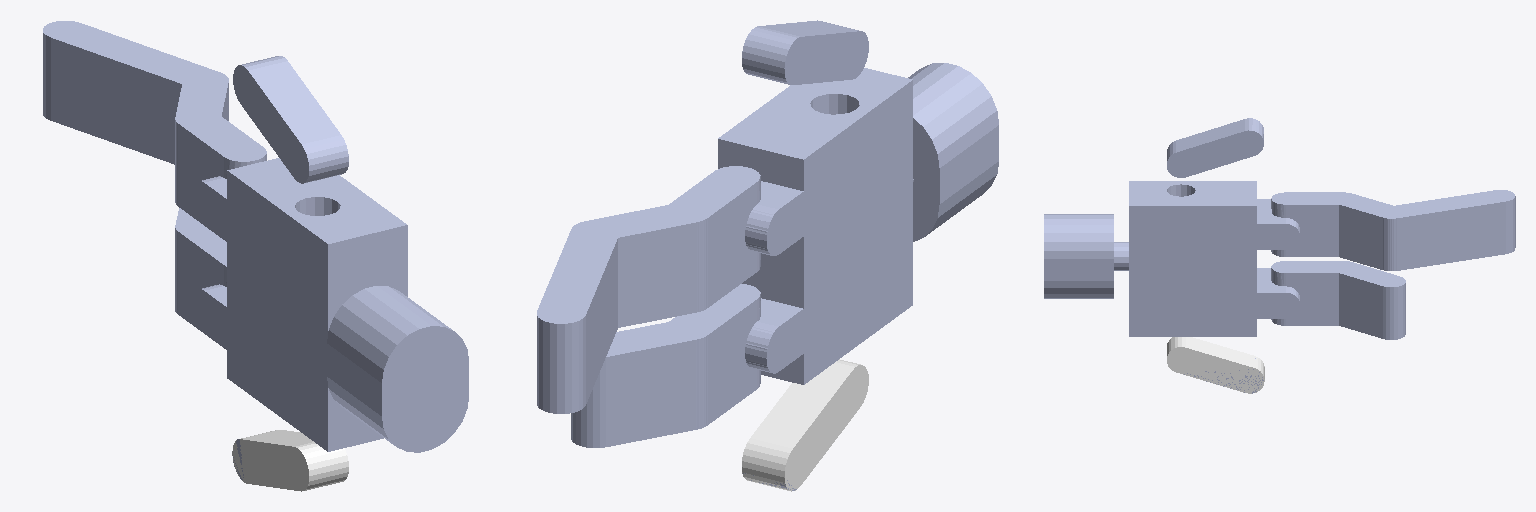
URDF robot description (ARLBOT_URDF):
<?xml version="1.0" encoding="utf-8"?>
<!-- This URDF was automatically created by SolidWorks to URDF Exporter! Originally created by [author] ([email redacted]) 
     Commit Version: 1.5.1-0-g916b5db  Build Version: 1.5.7152.31018
     For more information, please see http://wiki.ros.org/sw_urdf_exporter -->
<robot
  name="ARLBOT_URDF">
  <link
    name="body">
    <inertial>
      <origin
        xyz="-0.00077634 -0.099479 0.0043453"
        rpy="0 0 0" />
      <mass
        value="0.059413" />
      <inertia
        ixx="4.1035E-05"
        ixy="-1.0081E-06"
        ixz="-2.1708E-22"
        iyy="1.2244E-05"
        iyz="2.2363E-21"
        izz="3.3026E-05" />
    </inertial>
    <visual>
      <origin
        xyz="0 0 0"
        rpy="0 0 0" />
      <geometry>
        <mesh
          filename="package://ARLBOT_URDF/meshes/body.STL" />
      </geometry>
      <material
        name="">
        <color
          rgba="0.79216 0.81961 0.93333 1" />
      </material>
    </visual>
    <collision>
      <origin
        xyz="0 0 0"
        rpy="0 0 0" />
      <geometry>
        <mesh
          filename="package://ARLBOT_URDF/meshes/body.STL" />
      </geometry>
    </collision>
  </link>
  <link
    name="LL1">
    <inertial>
      <origin
        xyz="-0.00041151 2.8557E-09 -0.0086506"
        rpy="0 0 0" />
      <mass
        value="0.0064156" />
      <inertia
        ixx="6.404E-07"
        ixy="6.3379E-16"
        ixz="3.3481E-12"
        iyy="5.3959E-07"
        iyz="-3.3148E-14"
        izz="2.8084E-07" />
    </inertial>
    <visual>
      <origin
        xyz="0 0 0"
        rpy="0 0 0" />
      <geometry>
        <mesh
          filename="package://ARLBOT_URDF/meshes/LL1.STL" />
      </geometry>
      <material
        name="">
        <color
          rgba="0.79216 0.81961 0.93333 1" />
      </material>
    </visual>
    <collision>
      <origin
        xyz="0 0 0"
        rpy="0 0 0" />
      <geometry>
        <mesh
          filename="package://ARLBOT_URDF/meshes/LL1.STL" />
      </geometry>
    </collision>
  </link>
  <joint
    name="LL1"
    type="continuous">
    <origin
      xyz="0 -0.061525 0.017345"
      rpy="1.5708 0 0" />
    <parent
      link="body" />
    <child
      link="LL1" />
    <axis
      xyz="1 0 0" />
    <limit
      lower="-1.57"
      upper="1.57"
      effort="0"
      velocity="0.8" />
    <safety_controller
      soft_upper="1.57"
      soft_lower="-1.57"
      k_velocity="0" />
  </joint>
  <link
    name="LL2">
    <inertial>
      <origin
        xyz="0.0057358 -3.4694E-18 -0.0081915"
        rpy="0 0 0" />
      <mass
        value="0.0055708" />
      <inertia
        ixx="4.4608E-07"
        ixy="-1.2321E-23"
        ixz="1.5211E-07"
        iyy="4.1005E-07"
        iyz="2.3681E-24"
        izz="3.3535E-07" />
    </inertial>
    <visual>
      <origin
        xyz="0 0 0"
        rpy="0 0 0" />
      <geometry>
        <mesh
          filename="package://ARLBOT_URDF/meshes/LL2.STL" />
      </geometry>
      <material
        name="">
        <color
          rgba="0.79216 0.81961 0.93333 1" />
      </material>
    </visual>
    <collision>
      <origin
        xyz="0 0 0"
        rpy="0 0 0" />
      <geometry>
        <mesh
          filename="package://ARLBOT_URDF/meshes/LL2.STL" />
      </geometry>
    </collision>
  </link>
  <joint
    name="LL2"
    type="continuous">
    <origin
      xyz="-0.000411442702803559 0 -0.02"
      rpy="0 0 0" />
    <parent
      link="LL1" />
    <child
      link="LL2" />
    <axis
      xyz="0 1 0" />
    <limit
      lower="-1.57"
      upper="1.57"
      effort="0"
      velocity="0.8" />
    <safety_controller
      soft_upper="1.57"
      soft_lower="-1.57"
      k_velocity="0" />
  </joint>
  <link
    name="LL3">
    <inertial>
      <origin
        xyz="-0.0068404 -3.4694E-18 -0.018794"
        rpy="0 0 0" />
      <mass
        value="0.0095708" />
      <inertia
        ixx="1.9511E-06"
        ixy="2.5795E-23"
        ixz="-5.6618E-07"
        iyy="1.9146E-06"
        iyz="-2.7953E-23"
        izz="6.0158E-07" />
    </inertial>
    <visual>
      <origin
        xyz="0 0 0"
        rpy="0 0 0" />
      <geometry>
        <mesh
          filename="package://ARLBOT_URDF/meshes/LL3.STL" />
      </geometry>
      <material
        name="">
        <color
          rgba="0.79216 0.81961 0.93333 1" />
      </material>
    </visual>
    <collision>
      <origin
        xyz="0 0 0"
        rpy="0 0 0" />
      <geometry>
        <mesh
          filename="package://ARLBOT_URDF/meshes/LL3.STL" />
      </geometry>
    </collision>
  </link>
  <joint
    name="LL3"
    type="continuous">
    <origin
      xyz="0.0114715287270209 0 -0.0163830408857799"
      rpy="0 0 0" />
    <parent
      link="LL2" />
    <child
      link="LL3" />
    <axis
      xyz="0 1 0" />
    <limit
      lower="-1.57"
      upper="1.57"
      effort="0"
      velocity="0.8" />
    <safety_controller
      soft_upper="1.57"
      soft_lower="-1.57"
      k_velocity="0" />
  </joint>
  <link
    name="LL4">
    <inertial>
      <origin
        xyz="1.9286E-07 -4.0073E-09 -0.0079786"
        rpy="0 0 0" />
      <mass
        value="0.0052329" />
      <inertia
        ixx="4.1062E-07"
        ixy="-4.2228E-12"
        ixz="-1.2394E-11"
        iyy="4.8619E-07"
        iyz="3.6009E-13"
        izz="2.1722E-07" />
    </inertial>
    <visual>
      <origin
        xyz="0 0 0"
        rpy="0 0 0" />
      <geometry>
        <mesh
          filename="package://ARLBOT_URDF/meshes/LL4.STL" />
      </geometry>
      <material
        name="">
        <color
          rgba="0.79216 0.81961 0.93333 1" />
      </material>
    </visual>
    <collision>
      <origin
        xyz="0 0 0"
        rpy="0 0 0" />
      <geometry>
        <mesh
          filename="package://ARLBOT_URDF/meshes/LL4.STL" />
      </geometry>
    </collision>
  </link>
  <joint
    name="LL4"
    type="continuous">
    <origin
      xyz="-0.0136808057330267 0 -0.0375877048314363"
      rpy="0 0 0" />
    <parent
      link="LL3" />
    <child
      link="LL4" />
    <axis
      xyz="0 1 0" />
    <limit
      lower="-1.57"
      upper="1.57"
      effort="0"
      velocity="0.8" />
    <safety_controller
      soft_upper="1.57"
      soft_lower="-1.57"
      k_velocity="0" />
  </joint>
  <link
    name="LL5">
    <inertial>
      <origin
        xyz="0 0.0034789 -0.0029548"
        rpy="0 0 0" />
      <mass
        value="0.0062088" />
      <inertia
        ixx="4.3816E-07"
        ixy="2.8072E-25"
        ixz="1.698E-25"
        iyy="1.6654E-06"
        iyz="1.1776E-08"
        izz="2.0667E-06" />
    </inertial>
    <visual>
      <origin
        xyz="0 0 0"
        rpy="0 0 0" />
      <geometry>
        <mesh
          filename="package://ARLBOT_URDF/meshes/LL5.STL" />
      </geometry>
      <material
        name="">
        <color
          rgba="0.79216 0.81961 0.93333 1" />
      </material>
    </visual>
    <collision>
      <origin
        xyz="0 0 0"
        rpy="0 0 0" />
      <geometry>
        <mesh
          filename="package://ARLBOT_URDF/meshes/LL5.STL" />
      </geometry>
    </collision>
  </link>
  <joint
    name="LL5"
    type="continuous">
    <origin
      xyz="0 0 -0.02"
      rpy="0 0 0" />
    <parent
      link="LL4" />
    <child
      link="LL5" />
    <axis
      xyz="1 0 0" />
    <limit
      lower="-1.57"
      upper="1.57"
      effort="0"
      velocity="0.8" />
    <safety_controller
      soft_upper="1.57"
      soft_lower="-1.57"
      k_velocity="0" />
  </joint>
  <link
    name="LR1">
    <inertial>
      <origin
        xyz="-0.00041151 2.8557E-09 -0.0086506"
        rpy="0 0 0" />
      <mass
        value="0.0064156" />
      <inertia
        ixx="6.404E-07"
        ixy="6.3382E-16"
        ixz="3.3482E-12"
        iyy="5.3959E-07"
        iyz="-3.3139E-14"
        izz="2.8084E-07" />
    </inertial>
    <visual>
      <origin
        xyz="0 0 0"
        rpy="0 0 0" />
      <geometry>
        <mesh
          filename="package://ARLBOT_URDF/meshes/LR1.STL" />
      </geometry>
      <material
        name="">
        <color
          rgba="0.79216 0.81961 0.93333 1" />
      </material>
    </visual>
    <collision>
      <origin
        xyz="0 0 0"
        rpy="0 0 0" />
      <geometry>
        <mesh
          filename="package://ARLBOT_URDF/meshes/LR1.STL" />
      </geometry>
    </collision>
  </link>
  <joint
    name="LR1"
    type="continuous">
    <origin
      xyz="0 -0.061525 -0.0086547"
      rpy="1.5711 0 0" />
    <parent
      link="body" />
    <child
      link="LR1" />
    <axis
      xyz="1 0 0" />
    <limit
      lower="-1.57"
      upper="1.57"
      effort="0"
      velocity="0.8" />
    <safety_controller
      soft_upper="1.57"
      soft_lower="-1.57"
      k_velocity="0" />
  </joint>
  <link
    name="LR2">
    <inertial>
      <origin
        xyz="0.0057358 -1.1333E-08 -0.0081915"
        rpy="0 0 0" />
      <mass
        value="0.0055708" />
      <inertia
        ixx="4.4608E-07"
        ixy="-6.8443E-14"
        ixz="1.5211E-07"
        iyy="4.1005E-07"
        iyz="-2.9862E-13"
        izz="3.3535E-07" />
    </inertial>
    <visual>
      <origin
        xyz="0 0 0"
        rpy="0 0 0" />
      <geometry>
        <mesh
          filename="package://ARLBOT_URDF/meshes/LR2.STL" />
      </geometry>
      <material
        name="">
        <color
          rgba="0.79216 0.81961 0.93333 1" />
      </material>
    </visual>
    <collision>
      <origin
        xyz="0 0 0"
        rpy="0 0 0" />
      <geometry>
        <mesh
          filename="package://ARLBOT_URDF/meshes/LR2.STL" />
      </geometry>
    </collision>
  </link>
  <joint
    name="LR2"
    type="continuous">
    <origin
      xyz="-0.000411442702803607 0 -0.0200000000000006"
      rpy="0 -0.00690975570248467 0" />
    <parent
      link="LR1" />
    <child
      link="LR2" />
    <axis
      xyz="0 0.999999999998086 0" />
    <limit
      lower="-1.57"
      upper="1.57"
      effort="0"
      velocity="0.8" />
    <safety_controller
      soft_upper="1.57"
      soft_lower="-1.57"
      k_velocity="0" />
  </joint>
  <link
    name="LR3">
    <inertial>
      <origin
        xyz="-0.0068404 -5.8704E-09 -0.018794"
        rpy="0 0 0" />
      <mass
        value="0.0095708" />
      <inertia
        ixx="1.9511E-06"
        ixy="2.9592E-14"
        ixz="-5.6618E-07"
        iyy="1.9146E-06"
        iyz="-4.8528E-13"
        izz="6.0158E-07" />
    </inertial>
    <visual>
      <origin
        xyz="0 0 0"
        rpy="0 0 0" />
      <geometry>
        <mesh
          filename="package://ARLBOT_URDF/meshes/LR3.STL" />
      </geometry>
      <material
        name="">
        <color
          rgba="0.79216 0.81961 0.93333 1" />
      </material>
    </visual>
    <collision>
      <origin
        xyz="0 0 0"
        rpy="0 0 0" />
      <geometry>
        <mesh
          filename="package://ARLBOT_URDF/meshes/LR3.STL" />
      </geometry>
    </collision>
  </link>
  <joint
    name="LR3"
    type="continuous">
    <origin
      xyz="0.011471528736075 0 -0.0163830408794246"
      rpy="0 0.00991579292267587 0" />
    <parent
      link="LR2" />
    <child
      link="LR3" />
    <axis
      xyz="0 0.999999999999638 0" />
    <limit
      lower="-1.57"
      upper="1.57"
      effort="0"
      velocity="0.8" />
    <safety_controller
      soft_upper="1.57"
      soft_lower="-1.57"
      k_velocity="0" />
  </joint>
  <link
    name="LR4">
    <inertial>
      <origin
        xyz="1.9284E-07 -4.0234E-09 -0.0079786"
        rpy="0 0 0" />
      <mass
        value="0.0052329" />
      <inertia
        ixx="4.1062E-07"
        ixy="-4.2218E-12"
        ixz="-1.2393E-11"
        iyy="4.8619E-07"
        iyz="3.6096E-13"
        izz="2.1722E-07" />
    </inertial>
    <visual>
      <origin
        xyz="0 0 0"
        rpy="0 0 0" />
      <geometry>
        <mesh
          filename="package://ARLBOT_URDF/meshes/LR4.STL" />
      </geometry>
      <material
        name="">
        <color
          rgba="0.79216 0.81961 0.93333 1" />
      </material>
    </visual>
    <collision>
      <origin
        xyz="0 0 0"
        rpy="0 0 0" />
      <geometry>
        <mesh
          filename="package://ARLBOT_URDF/meshes/LR4.STL" />
      </geometry>
    </collision>
  </link>
  <joint
    name="LR4"
    type="continuous">
    <origin
      xyz="-0.0136808057420809 0 -0.0375877048281388"
      rpy="0 -0.00300603722021734 0" />
    <parent
      link="LR3" />
    <child
      link="LR4" />
    <axis
      xyz="0 1 0" />
    <limit
      lower="-1.57"
      upper="1.57"
      effort="0"
      velocity="0.8" />
    <safety_controller
      soft_upper="1.57"
      soft_lower="-1.57"
      k_velocity="0" />
  </joint>
  <link
    name="LR5">
    <inertial>
      <origin
        xyz="1.0408E-17 0.0034789 -0.0029548"
        rpy="0 0 0" />
      <mass
        value="0.0062088" />
      <inertia
        ixx="4.3816E-07"
        ixy="3.9559E-22"
        ixz="4.5233E-24"
        iyy="1.6654E-06"
        iyz="1.1776E-08"
        izz="2.0667E-06" />
    </inertial>
    <visual>
      <origin
        xyz="0 0 0"
        rpy="0 0 0" />
      <geometry>
        <mesh
          filename="package://ARLBOT_URDF/meshes/LR5.STL" />
      </geometry>
      <material
        name="">
        <color
          rgba="0.79216 0.81961 0.93333 1" />
      </material>
    </visual>
    <collision>
      <origin
        xyz="0 0 0"
        rpy="0 0 0" />
      <geometry>
        <mesh
          filename="package://ARLBOT_URDF/meshes/LR5.STL" />
      </geometry>
    </collision>
  </link>
  <joint
    name="LR5"
    type="continuous">
    <origin
      xyz="0 0 -0.02"
      rpy="-0.0010361611293162 0 -3.14159265358979" />
    <parent
      link="LR4" />
    <child
      link="LR5" />
    <axis
      xyz="1 0 0" />
    <limit
      lower="-1.57"
      upper="1.57"
      effort="0"
      velocity="0.8" />
    <safety_controller
      soft_upper="1.57"
      soft_lower="-1.57"
      k_velocity="0" />
  </joint>
  <link
    name="AL1">
    <inertial>
      <origin
        xyz="-3.4694E-18 0.0096702 -0.011671"
        rpy="0 0 0" />
      <mass
        value="0.0032854" />
      <inertia
        ixx="3.2524E-07"
        ixy="5.5563E-23"
        ixz="-1.3028E-22"
        iyy="2.9486E-07"
        iyz="8.7985E-08"
        izz="8.5144E-08" />
    </inertial>
    <visual>
      <origin
        xyz="0 0 0"
        rpy="0 0 0" />
      <geometry>
        <mesh
          filename="package://ARLBOT_URDF/meshes/AL1.STL" />
      </geometry>
      <material
        name="">
        <color
          rgba="0.79216 0.81961 0.93333 1" />
      </material>
    </visual>
    <collision>
      <origin
        xyz="0 0 0"
        rpy="0 0 0" />
      <geometry>
        <mesh
          filename="package://ARLBOT_URDF/meshes/AL1.STL" />
      </geometry>
    </collision>
  </link>
  <joint
    name="AL1"
    type="continuous">
    <origin
      xyz="-0.0026207 -0.097554 0.03595"
      rpy="1.5569 0 -0.0066325" />
    <parent
      link="body" />
    <child
      link="AL1" />
    <axis
      xyz="0 0.9999 0.013897" />
    <limit
      lower="-1.57"
      upper="1.57"
      effort="0"
      velocity="0.8" />
    <safety_controller
      soft_upper="1.57"
      soft_lower="-1.57"
      k_velocity="0" />
  </joint>
  <link
    name="AL2">
    <inertial>
      <origin
        xyz="-1.7781E-17 0.041275 0.12325"
        rpy="0 0 0" />
      <mass
        value="0.0032854" />
      <inertia
        ixx="3.2524E-07"
        ixy="-6.2976E-24"
        ixz="3.8257E-23"
        iyy="2.9486E-07"
        iyz="8.7985E-08"
        izz="8.5144E-08" />
    </inertial>
    <visual>
      <origin
        xyz="0 0 0"
        rpy="0 0 0" />
      <geometry>
        <mesh
          filename="package://ARLBOT_URDF/meshes/AL2.STL" />
      </geometry>
      <material
        name="">
        <color
          rgba="0.79216 0.81961 0.93333 1" />
      </material>
    </visual>
    <collision>
      <origin
        xyz="0 0 0"
        rpy="0 0 0" />
      <geometry>
        <mesh
          filename="package://ARLBOT_URDF/meshes/AL2.STL" />
      </geometry>
    </collision>
  </link>
  <joint
    name="AL2"
    type="continuous">
    <origin
      xyz="0 -0.0316050525216683 -0.134925020385111"
      rpy="0 0 0" />
    <parent
      link="AL1" />
    <child
      link="AL2" />
    <axis
      xyz="1 0 0" />
    <limit
      lower="-1.57"
      upper="1.57"
      effort="0"
      velocity="0.8" />
    <safety_controller
      soft_upper="1.57"
      soft_lower="-1.57"
      k_velocity="0" />
  </joint>
  <link
    name="AL3">
    <inertial>
      <origin
        xyz="-6.0715E-18 3.4694E-17 -0.02"
        rpy="0 0 0" />
      <mass
        value="0.0047854" />
      <inertia
        ixx="9.5731E-07"
        ixy="1.8353E-24"
        ixz="-4.6839E-22"
        iyy="9.5895E-07"
        iyz="2.7173E-22"
        izz="7.812E-08" />
    </inertial>
    <visual>
      <origin
        xyz="0 0 0"
        rpy="0 0 0" />
      <geometry>
        <mesh
          filename="package://ARLBOT_URDF/meshes/AL3.STL" />
      </geometry>
      <material
        name="">
        <color
          rgba="0.79216 0.81961 0.93333 1" />
      </material>
    </visual>
    <collision>
      <origin
        xyz="0 0 0"
        rpy="0 0 0" />
      <geometry>
        <mesh
          filename="package://ARLBOT_URDF/meshes/AL3.STL" />
      </geometry>
    </collision>
  </link>
  <joint
    name="AL3"
    type="continuous">
    <origin
      xyz="0 0.0455505035831425 0.111507684480351"
      rpy="-0.0366953074138193 0 0" />
    <parent
      link="AL2" />
    <child
      link="AL3" />
    <axis
      xyz="0 0.998720470895479 0.0505709503006669" />
    <limit
      lower="-1.57"
      upper="1.57"
      effort="0"
      velocity="0.8" />
    <safety_controller
      soft_upper="1.57"
      soft_lower="-1.57"
      k_velocity="0" />
  </joint>
  <link
    name="AR1">
    <inertial>
      <origin
        xyz="-3.4694E-18 0.0096702 -0.011671"
        rpy="0 0 0" />
      <mass
        value="0.0032854" />
      <inertia
        ixx="3.2524E-07"
        ixy="5.5563E-23"
        ixz="-1.3028E-22"
        iyy="2.9486E-07"
        iyz="8.7985E-08"
        izz="8.5144E-08" />
    </inertial>
    <visual>
      <origin
        xyz="0 0 0"
        rpy="0 0 0" />
      <geometry>
        <mesh
          filename="package://ARLBOT_URDF/meshes/AR1.STL" />
      </geometry>
      <material
        name="">
        <color
          rgba="1 1 1 1" />
      </material>
    </visual>
    <collision>
      <origin
        xyz="0 0 0"
        rpy="0 0 0" />
      <geometry>
        <mesh
          filename="package://ARLBOT_URDF/meshes/AR1.STL" />
      </geometry>
    </collision>
  </link>
  <joint
    name="AR1"
    type="continuous">
    <origin
      xyz="-0.00262071970880929 -0.0975538090082805 -0.0267132743654099"
      rpy="1.60394033868225 0 -0.0034234067129337" />
    <parent
      link="body" />
    <child
      link="AR1" />
    <axis
      xyz="0 0.999450787517761 -0.0331379439634823" />
    <limit
      lower="-1.57"
      upper="1.57"
      effort="0"
      velocity="0.8" />
    <safety_controller
      soft_upper="1.57"
      soft_lower="-1.57"
      k_velocity="0" />
  </joint>
  <link
    name="AR2">
    <inertial>
      <origin
        xyz="3.0358E-18 -0.041275 0.12325"
        rpy="0 0 0" />
      <mass
        value="0.0032854" />
      <inertia
        ixx="3.2524E-07"
        ixy="-2.3878E-24"
        ixz="-1.034E-23"
        iyy="2.9486E-07"
        iyz="-8.7985E-08"
        izz="8.5144E-08" />
    </inertial>
    <visual>
      <origin
        xyz="0 0 0"
        rpy="0 0 0" />
      <geometry>
        <mesh
          filename="package://ARLBOT_URDF/meshes/AR2.STL" />
      </geometry>
      <material
        name="">
        <color
          rgba="0.79216 0.81961 0.93333 1" />
      </material>
    </visual>
    <collision>
      <origin
        xyz="0 0 0"
        rpy="0 0 0" />
      <geometry>
        <mesh
          filename="package://ARLBOT_URDF/meshes/AR2.STL" />
      </geometry>
    </collision>
  </link>
  <joint
    name="AR2"
    type="continuous">
    <origin
      xyz="0 0.03106183241523 -0.134803113202643"
      rpy="0 0 0" />
    <parent
      link="AR1" />
    <child
      link="AR2" />
    <axis
      xyz="1 0 0" />
    <limit
      lower="-1.57"
      upper="1.57"
      effort="0"
      velocity="0.8" />
    <safety_controller
      soft_upper="1.57"
      soft_lower="-1.57"
      k_velocity="0" />
  </joint>
  <link
    name="AR3">
    <inertial>
      <origin
        xyz="1.7347E-18 0 -0.02"
        rpy="0 0 0" />
      <mass
        value="0.0047854" />
      <inertia
        ixx="9.5731E-07"
        ixy="2.5332E-24"
        ixz="-2.7452E-23"
        iyy="9.5895E-07"
        iyz="6.5802E-22"
        izz="7.812E-08" />
    </inertial>
    <visual>
      <origin
        xyz="0 0 0"
        rpy="0 0 0" />
      <geometry>
        <mesh
          filename="package://ARLBOT_URDF/meshes/AR3.STL" />
      </geometry>
      <material
        name="">
        <color
          rgba="0.79216 0.81961 0.93333 1" />
      </material>
    </visual>
    <collision>
      <origin
        xyz="0 0 0"
        rpy="0 0 0" />
      <geometry>
        <mesh
          filename="package://ARLBOT_URDF/meshes/AR3.STL" />
      </geometry>
    </collision>
  </link>
  <joint
    name="AR3"
    type="continuous">
    <origin
      xyz="0 -0.0455505035831417 0.111507684480352"
      rpy="0.0372396712544754 0 0" />
    <parent
      link="AR2" />
    <child
      link="AR3" />
    <axis
      xyz="0 0.997524090936409 -0.0703255856818159" />
    <limit
      lower="-1.57"
      upper="1.57"
      effort="0"
      velocity="0.8" />
    <safety_controller
      soft_upper="1.57"
      soft_lower="-1.57"
      k_velocity="0" />
  </joint>
</robot>

--- What the picture shows (computed from the rendered views, not written in the file) ---
The picture shows the robot from 3 angles, left to right: view 1: azimuth 30°, elevation 25°; view 2: azimuth 150°, elevation 25°; view 3: azimuth 270°, elevation 25°; orthographic projection.
Model ARLBOT_URDF with 17 links and 16 joints (16 continuous), rooted at body, posed every joint at zero.
Links seen in each view (by area): view 1: body, LL3, AL1, AR1, LL1, LR1, LL2, LR2; view 2: body, LR2, LL3, LL2, AR1, LL1, LR1, AL1; view 3: body, LL3, LR2, LL1, LR1, AL1, AR1, LL2.
Boxes of the visible links, <box> form: body: <box>193,158,468,452</box>; LL3: <box>43,21,228,164</box>; AL1: <box>233,56,348,183</box>; AR1: <box>232,430,348,491</box>; LL1: <box>176,109,266,241</box>; LR1: <box>176,217,226,349</box>; LL2: <box>175,70,228,205</box>; LR2: <box>175,208,211,313</box>; body: <box>718,63,998,384</box>; LR2: <box>571,322,710,447</box>; LL3: <box>537,220,620,413</box>; LL2: <box>571,203,710,327</box>; AR1: <box>742,359,868,491</box>; LL1: <box>661,166,785,311</box>; LR1: <box>661,284,790,429</box>; AL1: <box>742,20,868,84</box>; body: <box>1044,181,1299,336</box>; LL3: <box>1378,190,1515,270</box>; LR2: <box>1330,261,1405,339</box>; LL1: <box>1271,192,1358,256</box>; LR1: <box>1271,261,1357,325</box>; AL1: <box>1167,118,1263,177</box>; AR1: <box>1167,337,1264,393</box>; LL2: <box>1330,192,1405,270</box>.
Size in the robot's own frame: 0.0298 by 0.162 by 0.1 metres.
9 mesh visuals loaded from 17 distinct referenced files (9 binary STL); not drawn: 8 (reference not matched to a file when rendering).